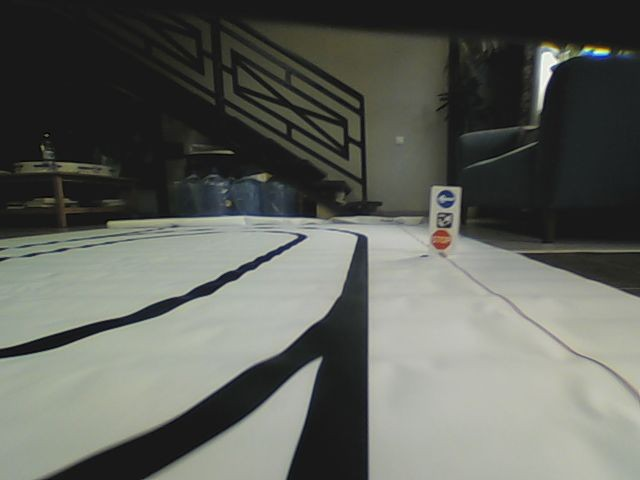Stop: (431, 228, 452, 250)
